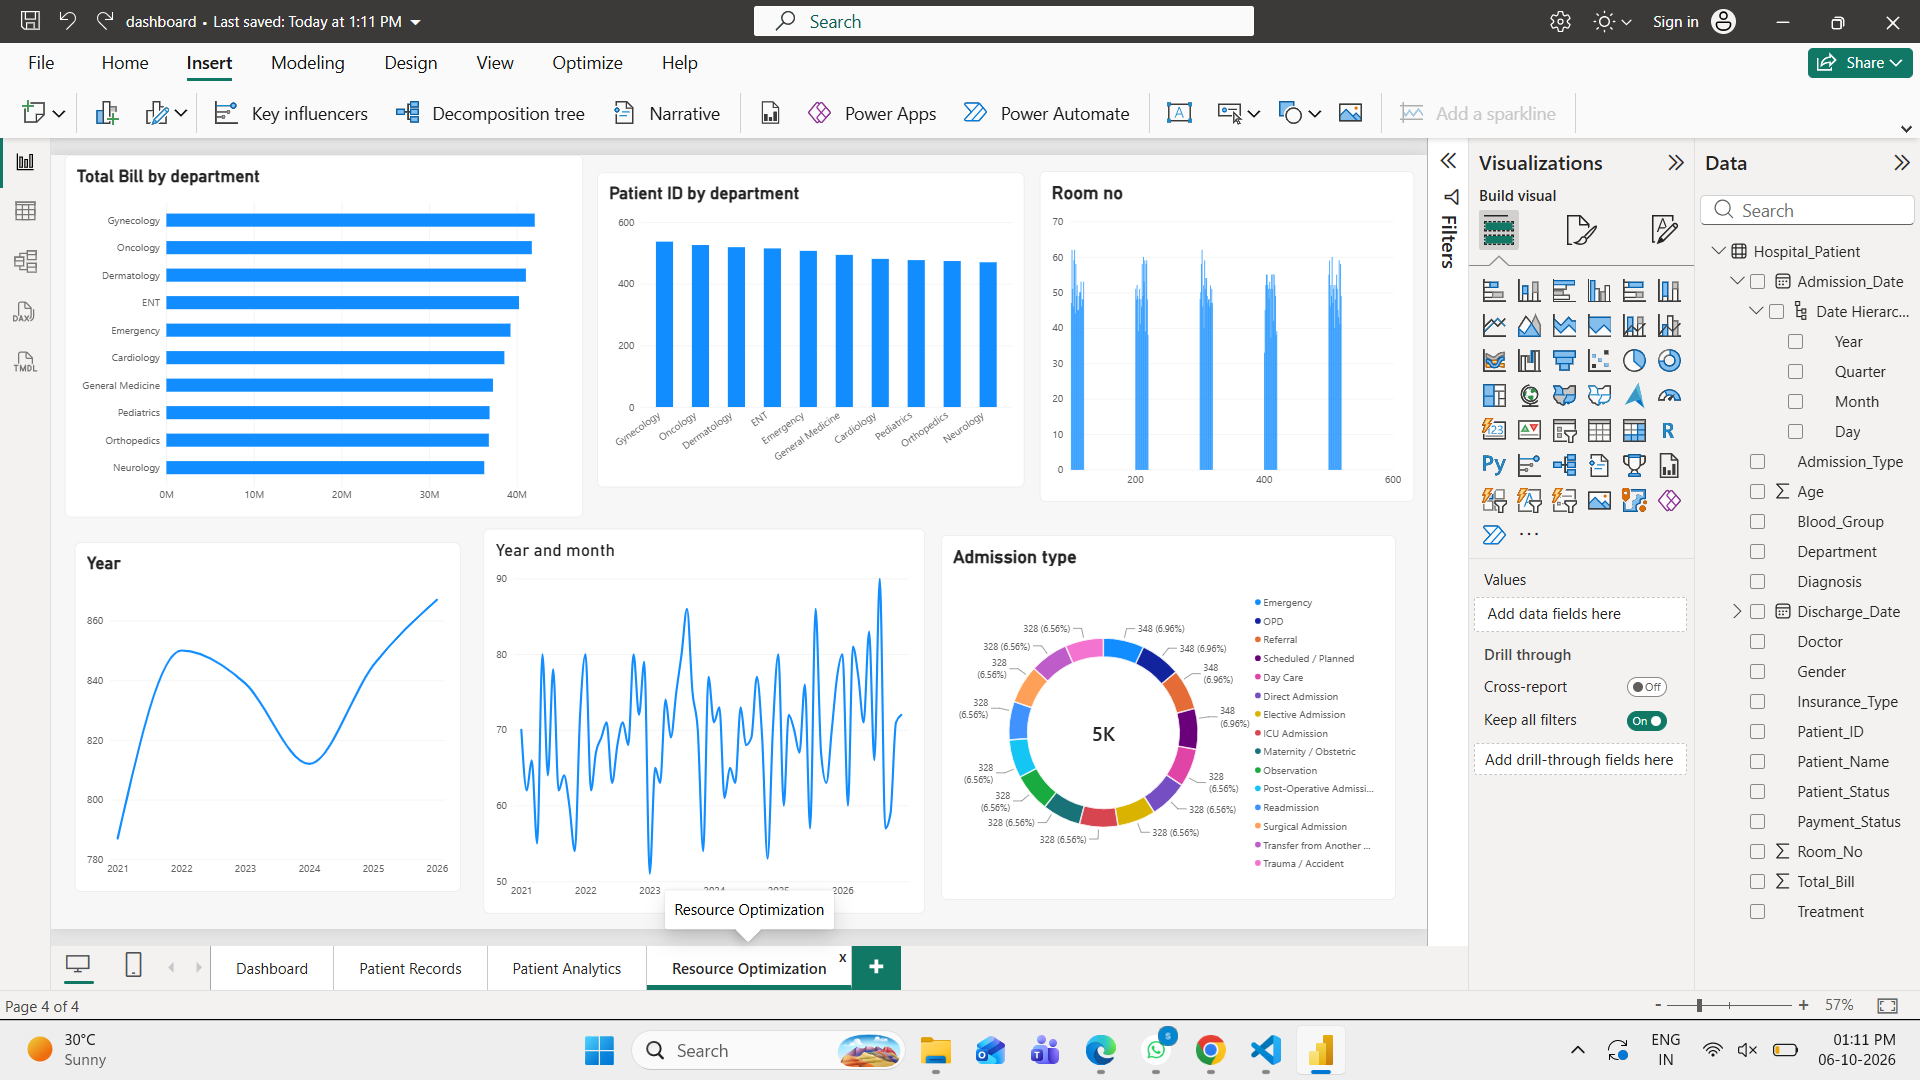

The dashboard page shown, as its layout file describes it:
{"tool":"powerbi","page":{"name":"Resource Optimization","canvas":[1920,1080],"ordinal":3},"visuals":[{"type":"columnChart","title":" Patient ID by department ","fields":{"Category":["Hospital_Patient.Department"],"Y":["CountNonNull(Hospital_Patient.Patient_ID)"]},"box":[761.9,24,595.9,439],"z":0},{"type":"columnChart","title":"Room no ","fields":{"Y":["CountNonNull(Hospital_Patient.Patient_ID)"],"Category":["Hospital_Patient.Room_No"]},"box":[1379.9,22.1,522.1,461.2],"z":1000},{"type":"donutChart","title":"Admission type","fields":{"Category":["Hospital_Patient.Admission_Type"],"Y":["CountNonNull(Hospital_Patient.Patient_ID)"]},"box":[1241.5,529.4,634.6,509.1],"z":2000},{"type":"lineChart","title":"Year","fields":{"Category":["Hospital_Patient.Admission_Date.Variation.Date Hierarchy.Year"],"Y":["CountNonNull(Hospital_Patient.Patient_ID)"]},"box":[33.2,540.5,538.7,487],"z":3000},{"type":"lineChart","title":"Year and month","fields":{"Y":["CountNonNull(Hospital_Patient.Patient_ID)"],"Category":["Hospital_Patient.Admission_Date.Variation.Date Hierarchy.Year","Hospital_Patient.Admission_Date.Variation.Date Hierarchy.Month"]},"box":[603.2,522.1,616.1,536.8],"z":4000},{"type":"barChart","title":"Total Bill by department ","fields":{"Category":["Hospital_Patient.Department"],"Y":["Sum(Hospital_Patient.Total_Bill)"]},"box":[18.4,0,723.1,505.5],"z":5000}]}

Visuals, with their boxes on the page's 1920x1080 design canvas (x1, y1, x2, y2). These are canvas units, not pixel positions in the 1920x1080 screenshot, which may show the page scaled, cropped or inside an application window:
" Patient ID by department " columnChart: left=762, top=24, right=1358, bottom=463
"Room no " columnChart: left=1380, top=22, right=1902, bottom=483
"Admission type" donutChart: left=1242, top=529, right=1876, bottom=1038
"Year" lineChart: left=33, top=540, right=572, bottom=1028
"Year and month" lineChart: left=603, top=522, right=1219, bottom=1059
"Total Bill by department " barChart: left=18, top=0, right=742, bottom=506
